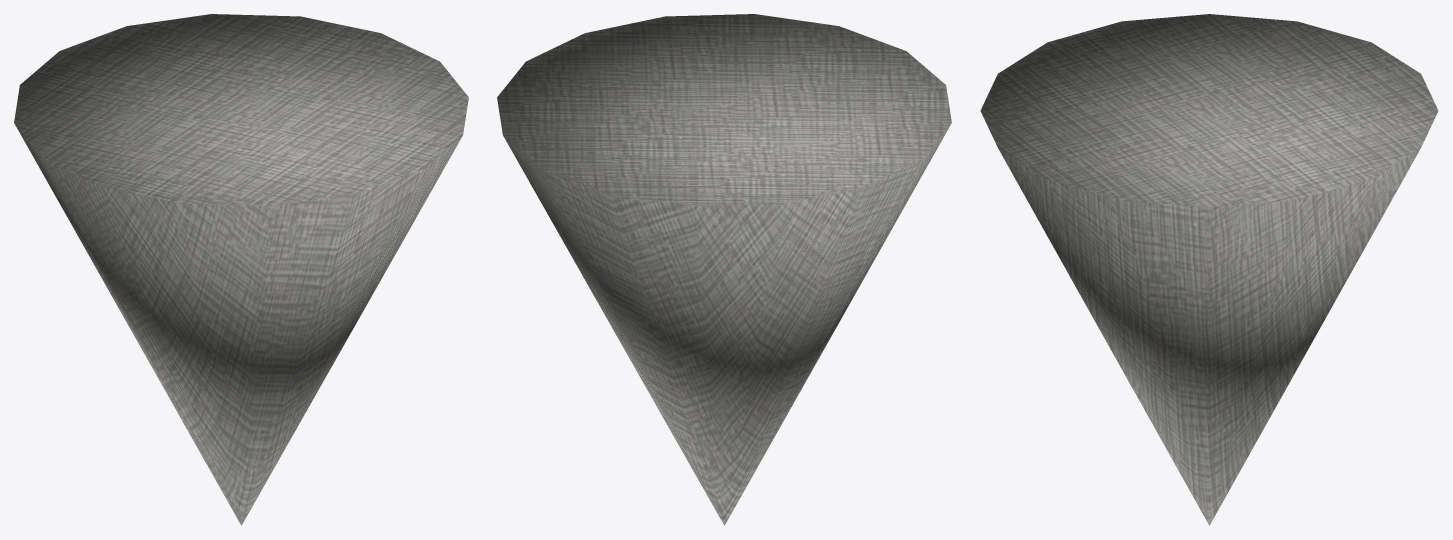
The model's file is Worm_hole.FBX.
3 renders of one model, left to right at view 1: azimuth 30°, elevation 25°; view 2: azimuth 150°, elevation 25°; view 3: azimuth 270°, elevation 25°, orthographic.
Visible parts, largest first — view 1: Worm_hole; view 2: Worm_hole; view 3: Worm_hole.
Part boxes in pixels (x1,y1,x2,y2): Worm_hole: [14, 14, 468, 525]; Worm_hole: [497, 14, 951, 525]; Worm_hole: [980, 14, 1438, 525].
Bounding box in the file's own units: 78.74 × 78.74 × 78.74.
